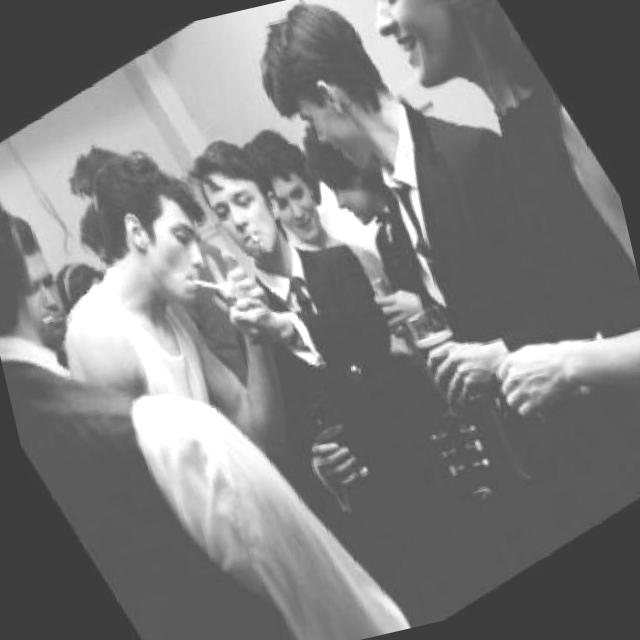smoke: (188, 262, 234, 308), (248, 229, 262, 245)
